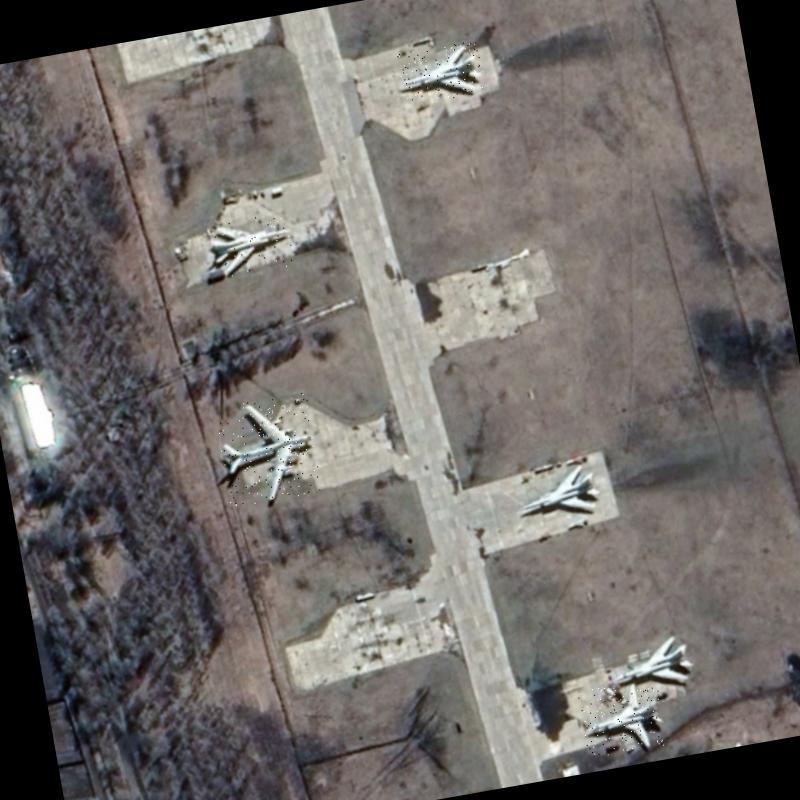A12: (577, 676, 670, 758), (207, 211, 299, 279), (397, 40, 486, 106), (608, 630, 698, 694), (514, 459, 604, 522)
A17: (213, 392, 324, 508)
